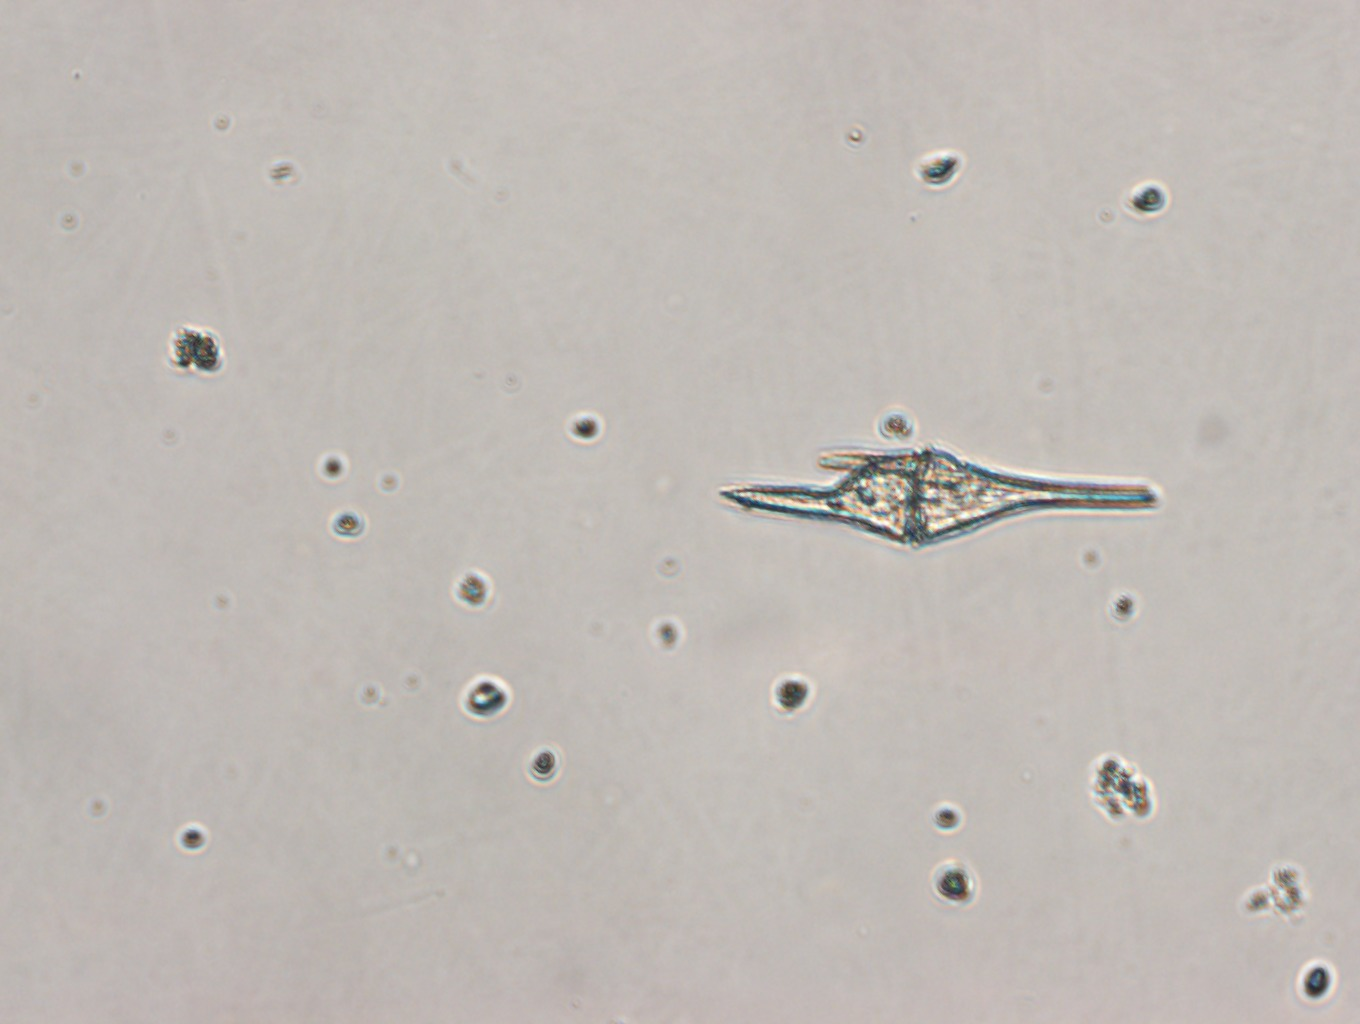ceratium furca: (712, 438, 1162, 549)
